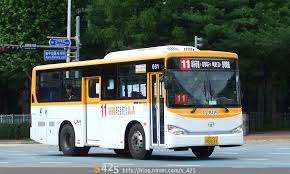bnum: (180, 58, 191, 70)
